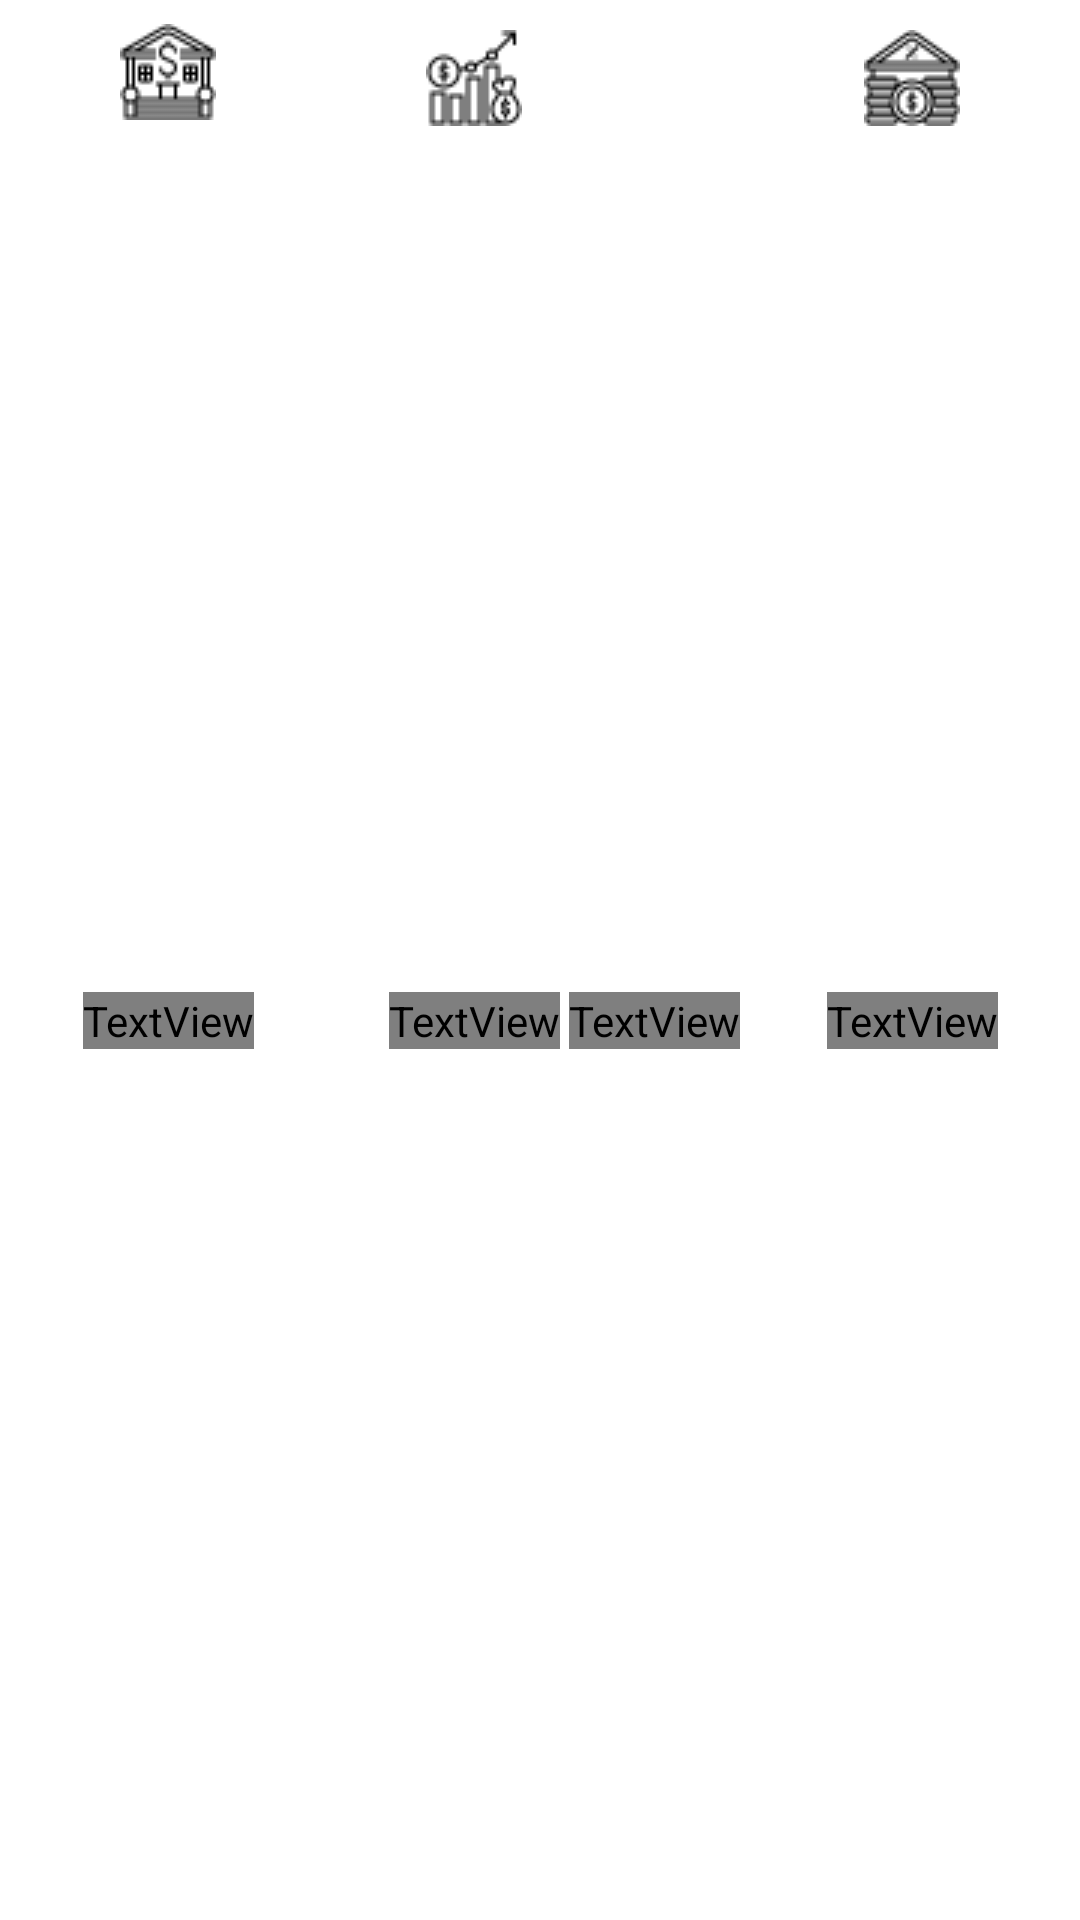

Named icons in this screenshot (1080w x 1920h) and their centers, (x,y):
receitas: (474,78)
